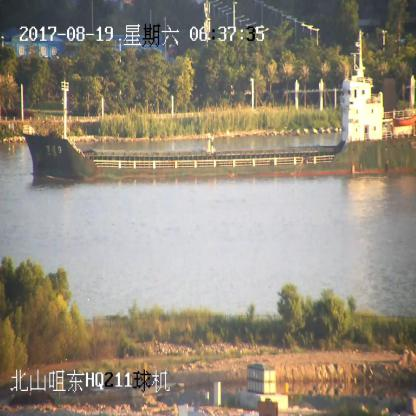Bulk Carrier: (23, 45, 416, 178)
